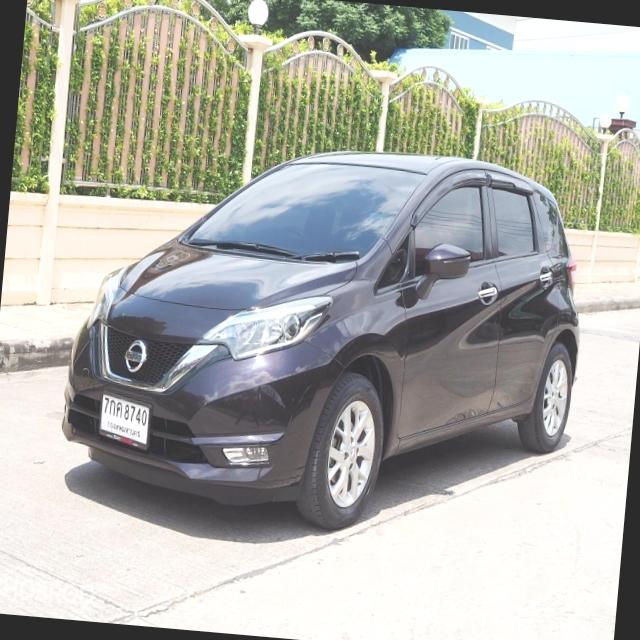license_plate: (94, 389, 154, 454)
